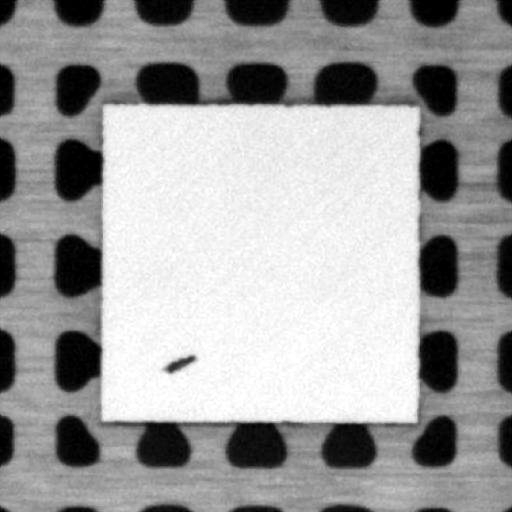DIE_INK: (160, 351, 196, 373)
